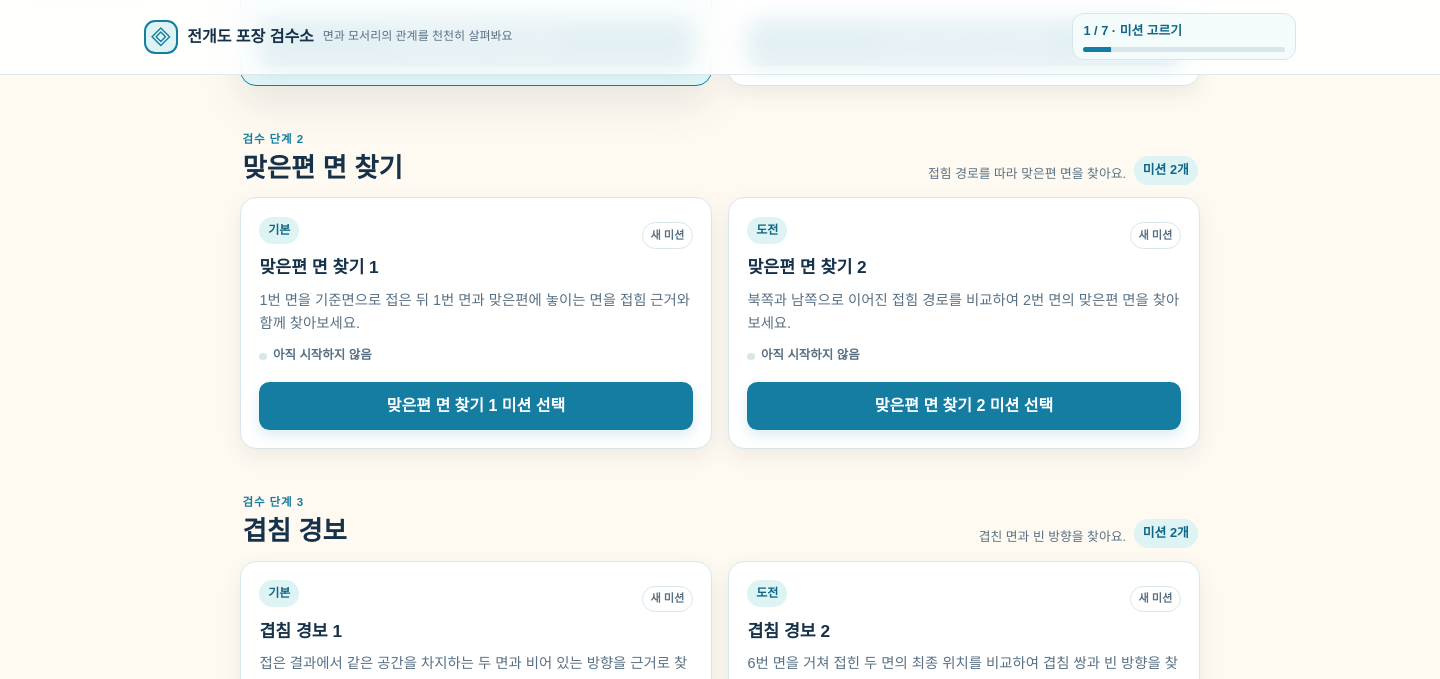
Scenario: AppShell › shows the shorter progress path for an opposite-face mission
(page scrolled)
Click the button "맞은편 면 찾기 1 미션 선택" at (476,406), box [259, 382, 693, 430]
(page scrolled)
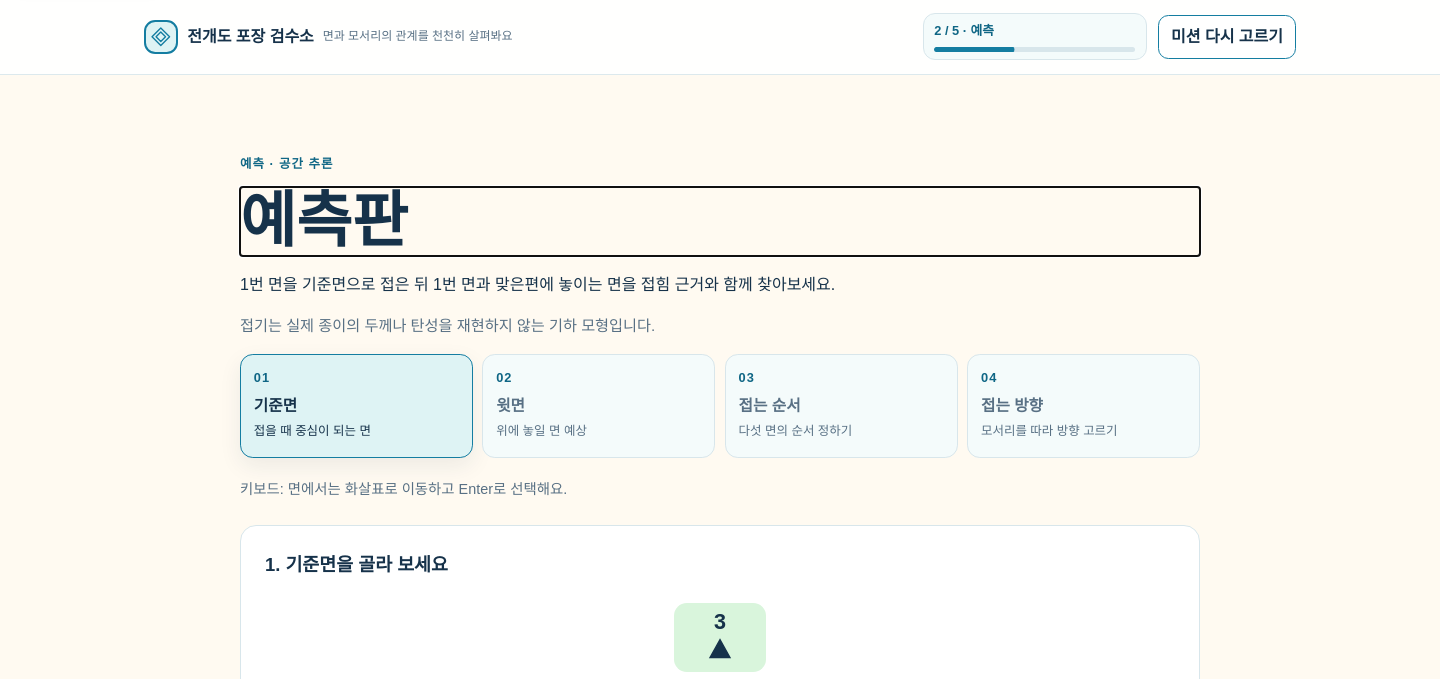
Check: the text "2 / 5 · 예측" is shown, box [934, 23, 994, 38]
